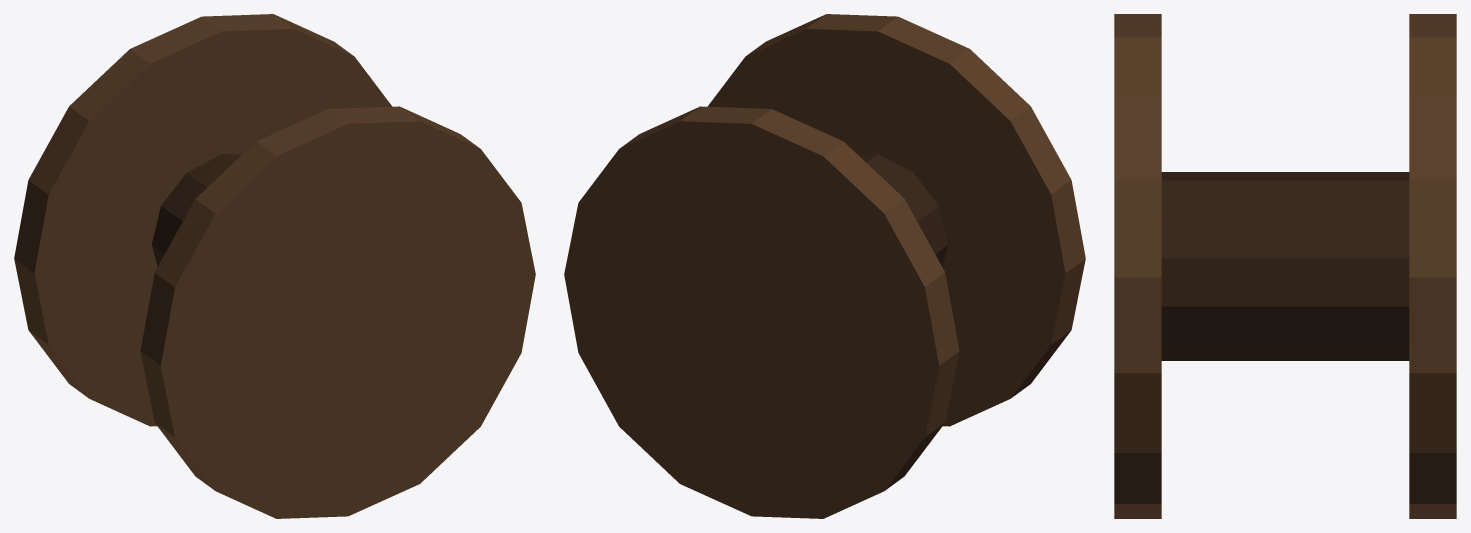
File: AUR_CableSpool.obj
The picture shows the model from 3 angles, left to right: view 1: azimuth 30°, elevation 25°; view 2: azimuth 150°, elevation 25°; view 3: azimuth 270°, elevation 25°; orthographic projection. The views are drawn at different scales.
Parts seen in each view (by area): view 1: disc_1, disc_0, core_2; view 2: disc_0, disc_1, core_2; view 3: core_2, disc_0, disc_1.
Boxes of the visible parts, x1,y1,x2,y2 form: disc_1: [140, 106, 535, 518]; disc_0: [14, 14, 391, 426]; core_2: [151, 154, 241, 266]; disc_0: [564, 106, 959, 518]; disc_1: [708, 14, 1085, 426]; core_2: [858, 154, 948, 266]; core_2: [1161, 172, 1409, 360]; disc_0: [1409, 14, 1456, 518]; disc_1: [1114, 14, 1161, 518].
Bounding box in the file's own units: 0.96 × 0.96 × 0.65.
